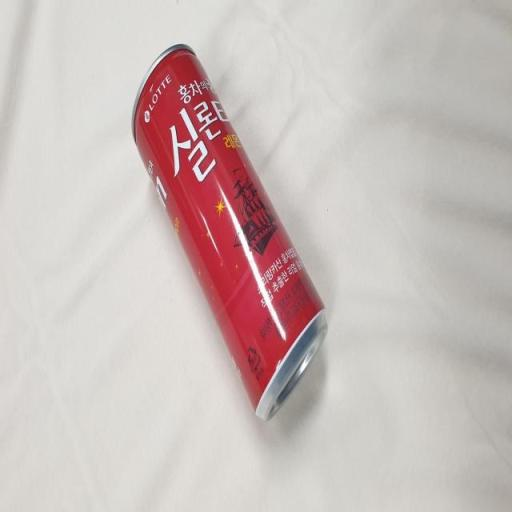metal: (102, 2, 351, 462)
